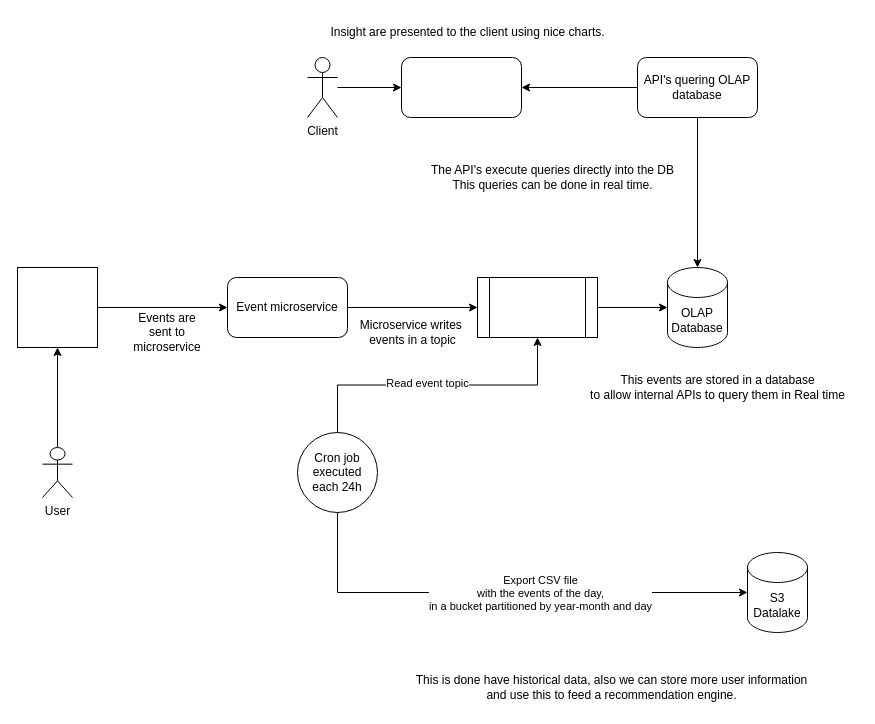
Image size: 875x724. Some labels were removed from this diagram. Each missing label, with the centre of its shape:
"Client frontend dashboard" goes at point (461, 87).
"Front end site" goes at point (57, 307).
"Kafka" goes at point (537, 307).
